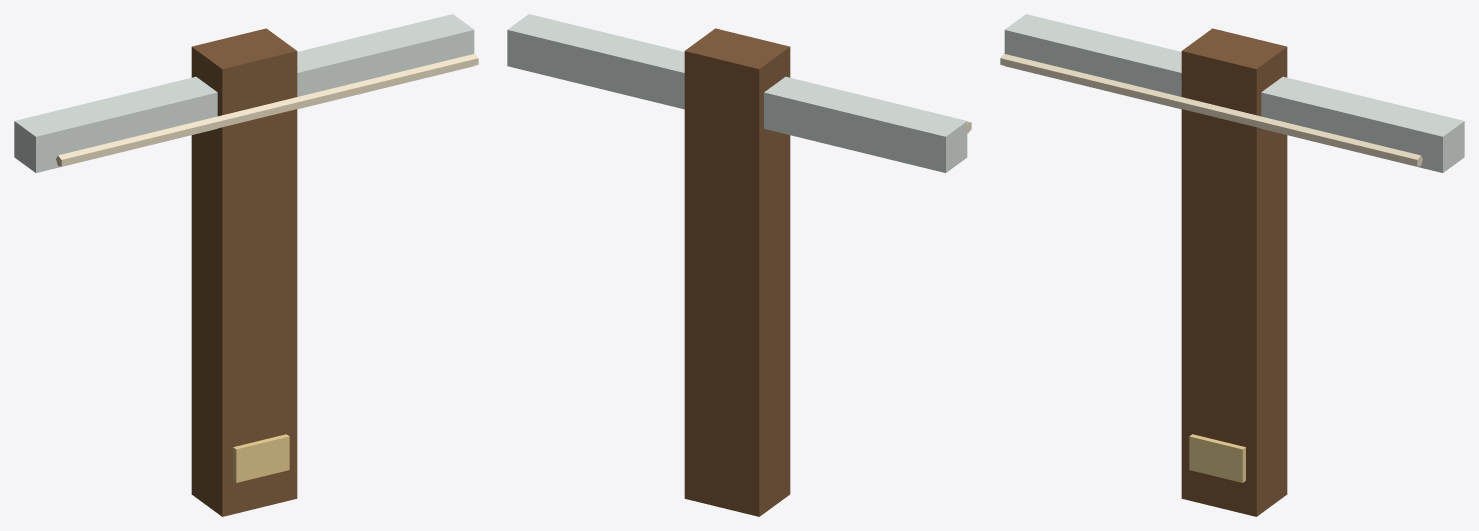
File: ironCrossbow.glb
The picture shows the model from 3 angles, left to right: view 1: azimuth 30°, elevation 25°; view 2: azimuth 150°, elevation 25°; view 3: azimuth 330°, elevation 25°; orthographic projection.
Visible parts, largest first — view 1: CrossbowStock, CrossbowBow, CrossbowString, CrossbowTrigger; view 2: CrossbowStock, CrossbowBow; view 3: CrossbowStock, CrossbowBow, CrossbowString, CrossbowTrigger.
Part boxes in pixels (x1=…): CrossbowStock: x1=191, y1=28, x2=297, y2=516; CrossbowBow: x1=14, y1=14, x2=474, y2=172; CrossbowString: x1=56, y1=53, x2=478, y2=166; CrossbowTrigger: x1=233, y1=434, x2=289, y2=482; CrossbowStock: x1=684, y1=28, x2=790, y2=516; CrossbowBow: x1=507, y1=14, x2=967, y2=172; CrossbowStock: x1=1181, y1=28, x2=1287, y2=516; CrossbowBow: x1=1004, y1=14, x2=1464, y2=172; CrossbowString: x1=1000, y1=53, x2=1422, y2=166; CrossbowTrigger: x1=1189, y1=434, x2=1245, y2=482.
Size of the model in its own units: 0.82 by 0.8 by 0.1331.
